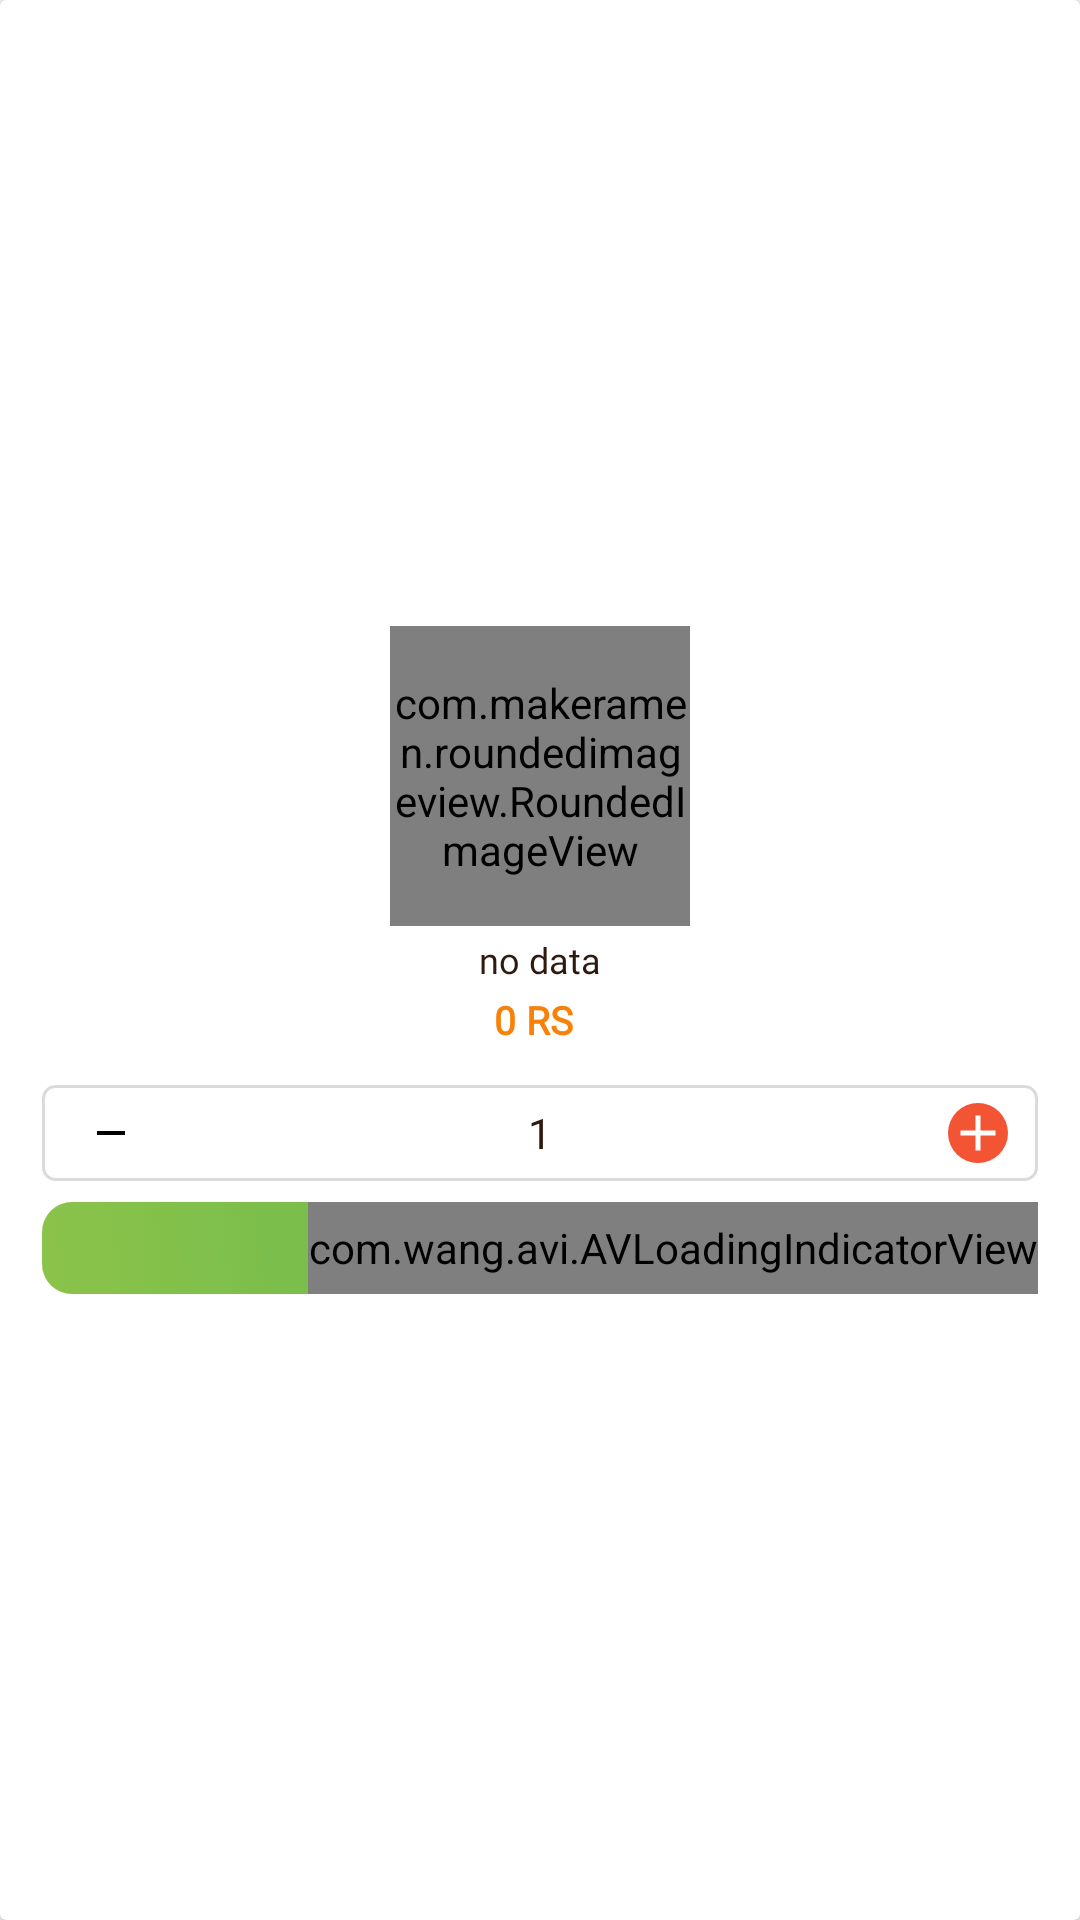

Icons on this 1080x1920 Android screen, each with the point to tap as (x,y):
plus carts: (978,1133)
